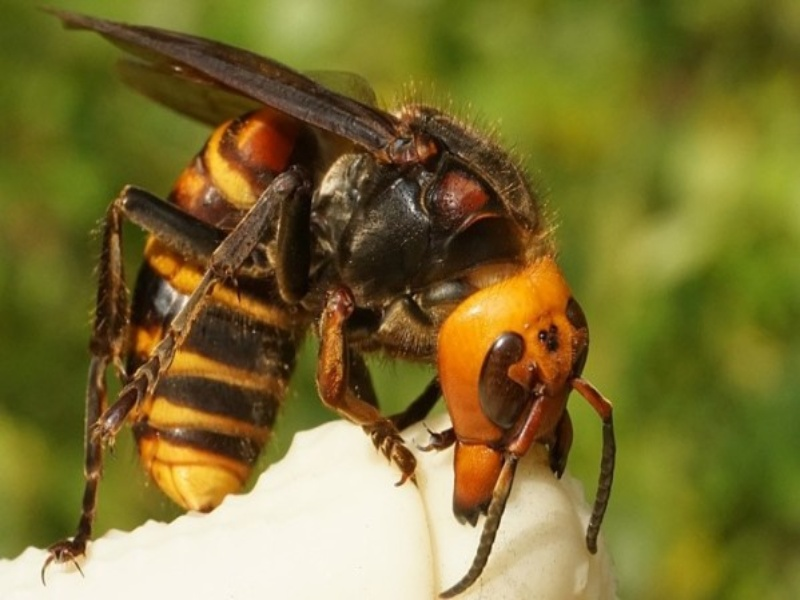asian_giant_hornet: (110, 86, 592, 530)
